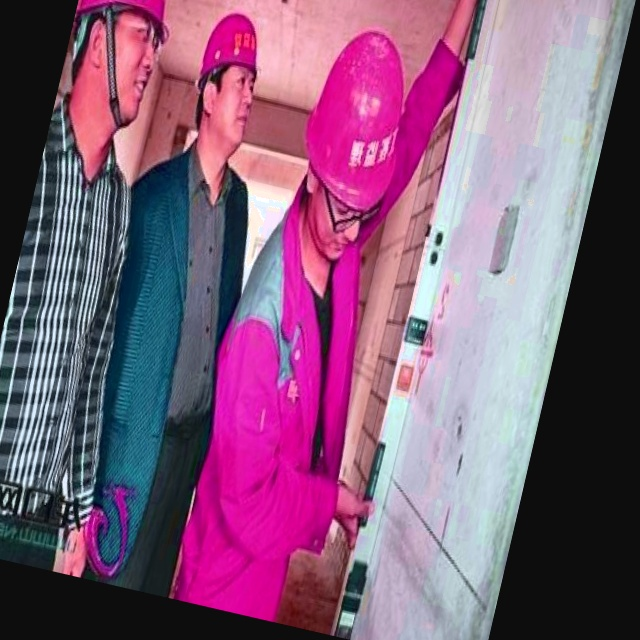Con_Casco: (285, 23, 422, 261), (53, 0, 184, 137), (187, 6, 274, 164)
